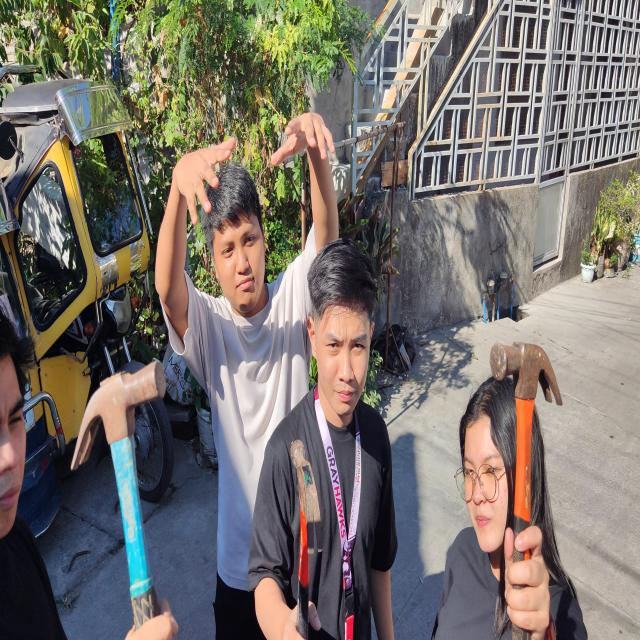hammer: (71, 362, 165, 631), (490, 341, 562, 640), (290, 439, 323, 640)
